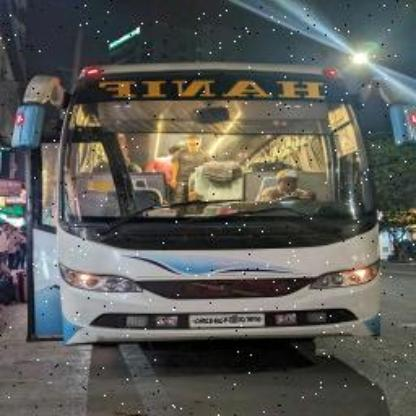bus: (19, 55, 379, 357)
